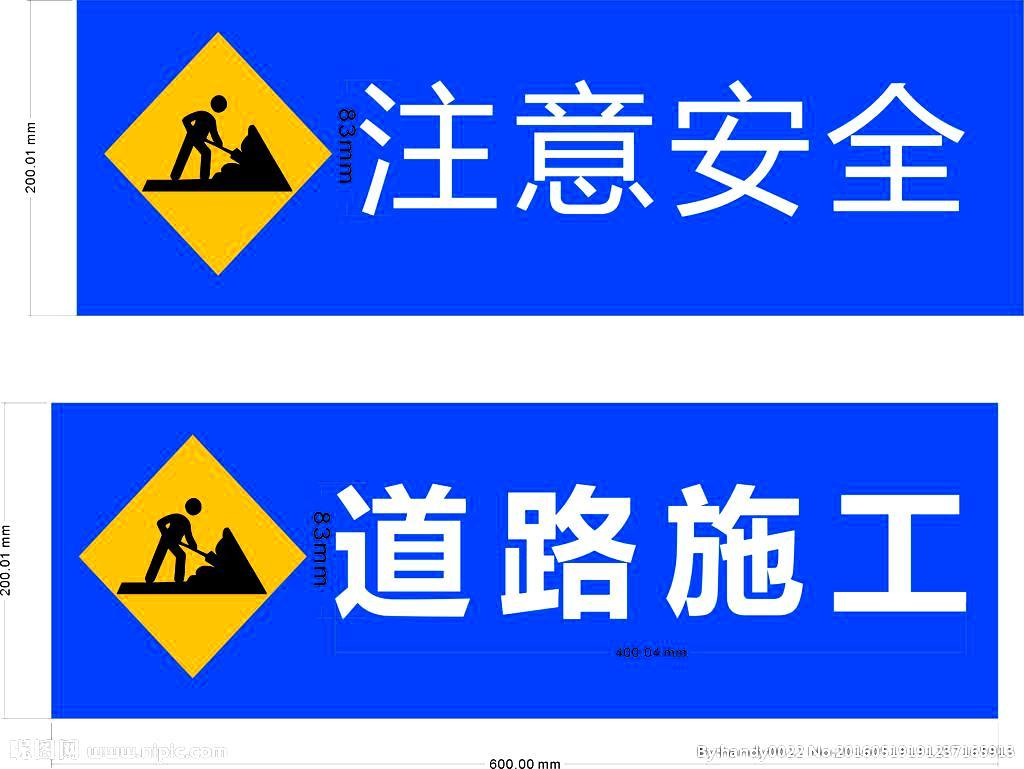sign: (68, 419, 990, 701), (96, 14, 1005, 297)
